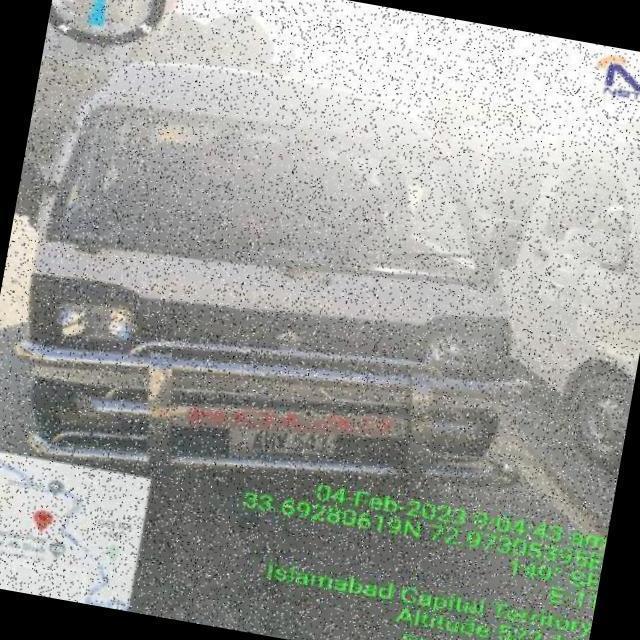License Plate: (234, 415, 346, 473)
